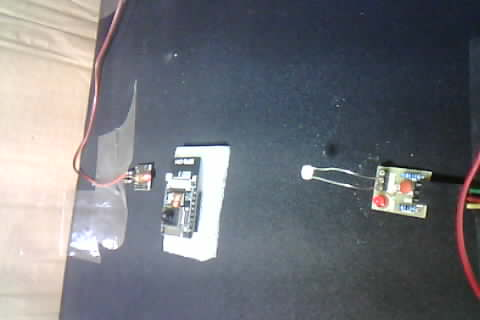esp32: (158, 143, 230, 261)
